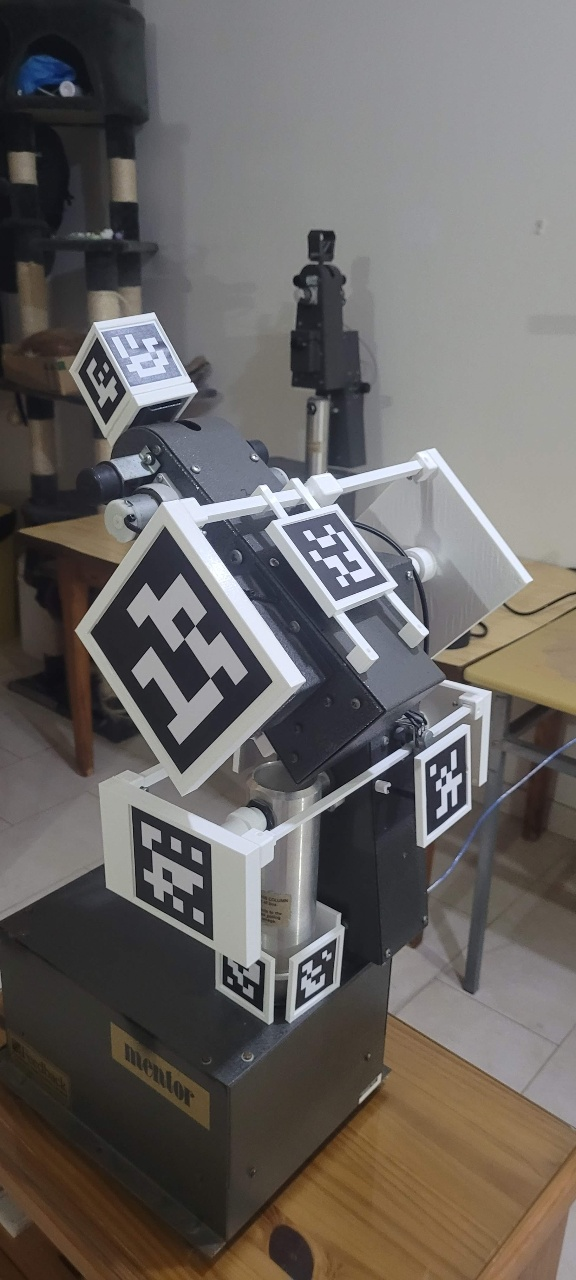Robot: (74, 312, 499, 932)
